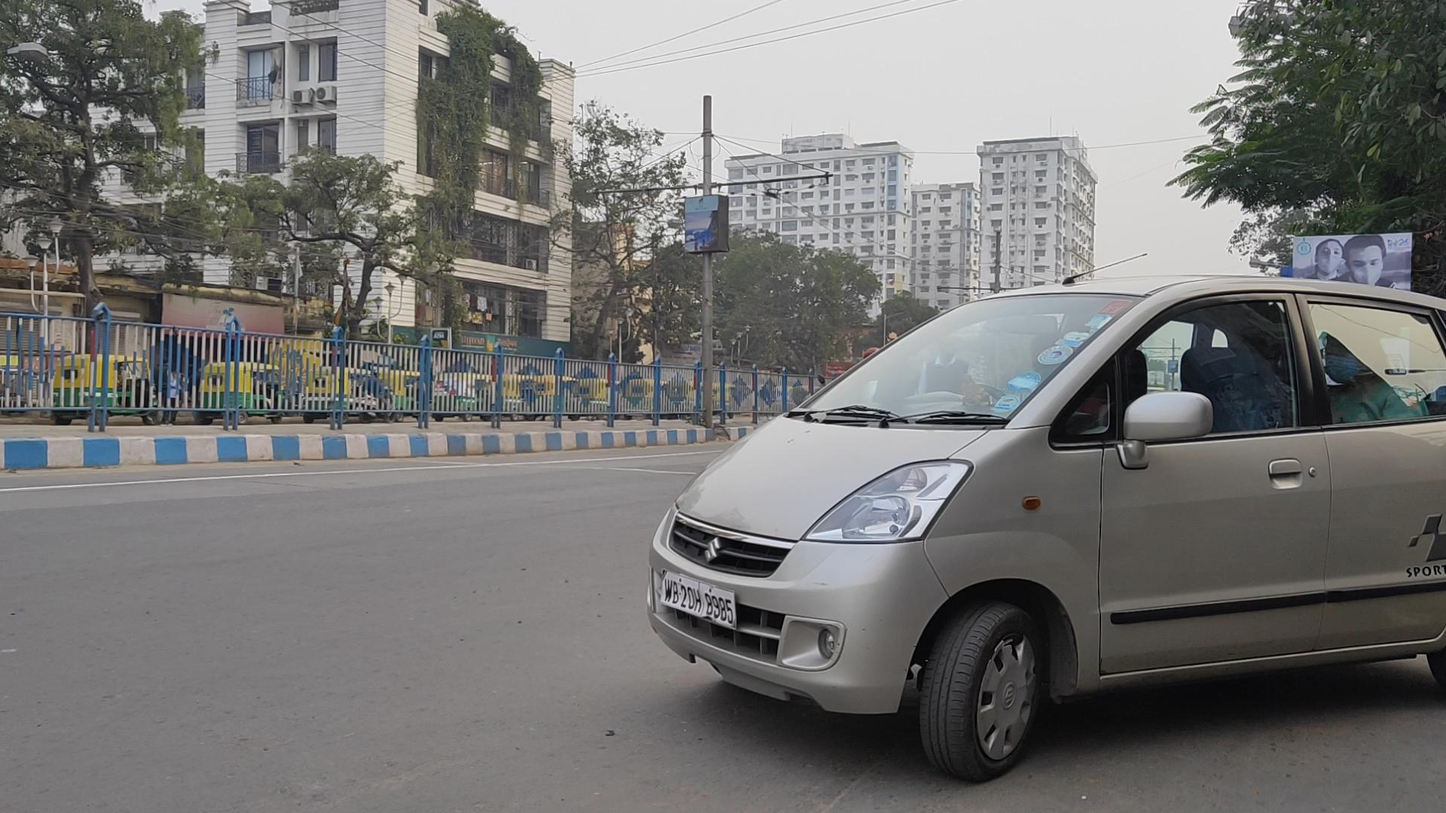car: (648, 272, 1446, 785)
